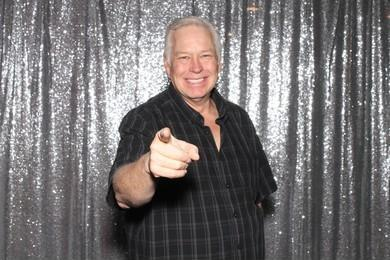face: (172, 41, 218, 102)
